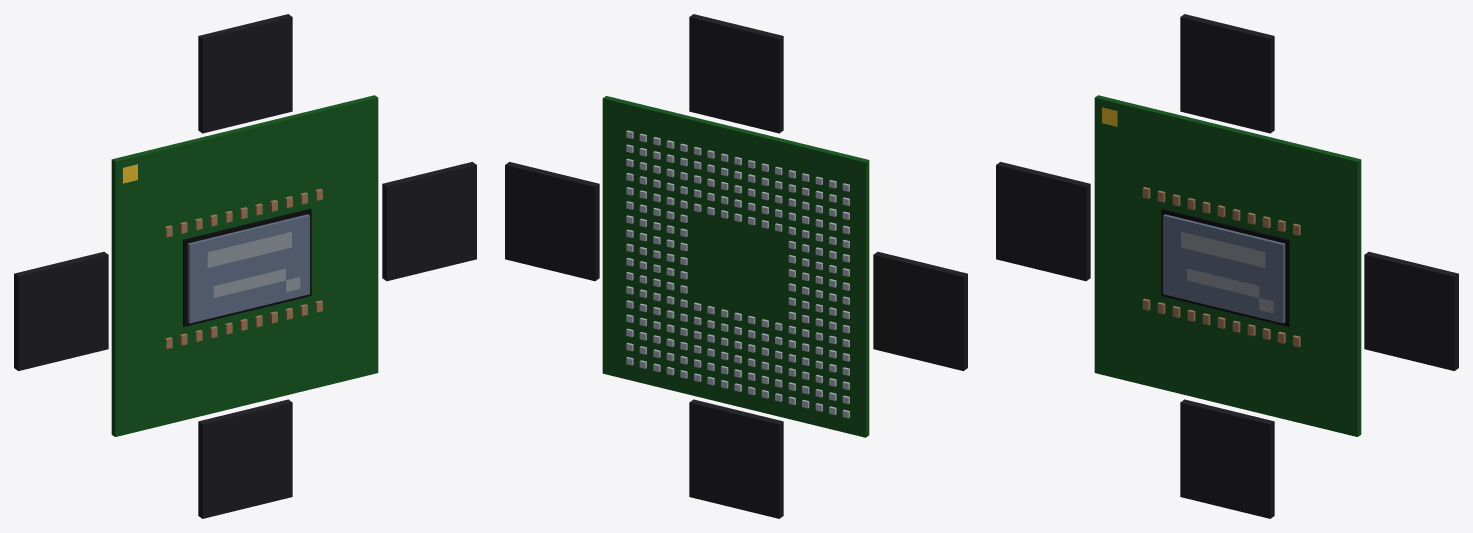
File: GPU_NVIDIA_GEFORCE_RTX_4060_LAPTOP_BGA.obj
3 renders of one model, left to right at view 1: azimuth 30°, elevation 25°; view 2: azimuth 150°, elevation 25°; view 3: azimuth 330°, elevation 25°, orthographic.
Size of the model in its own units: 61 by 61 by 1.81.
